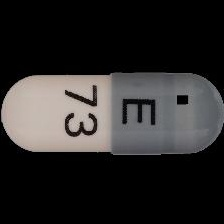68084-698: (0, 0, 224, 224)
